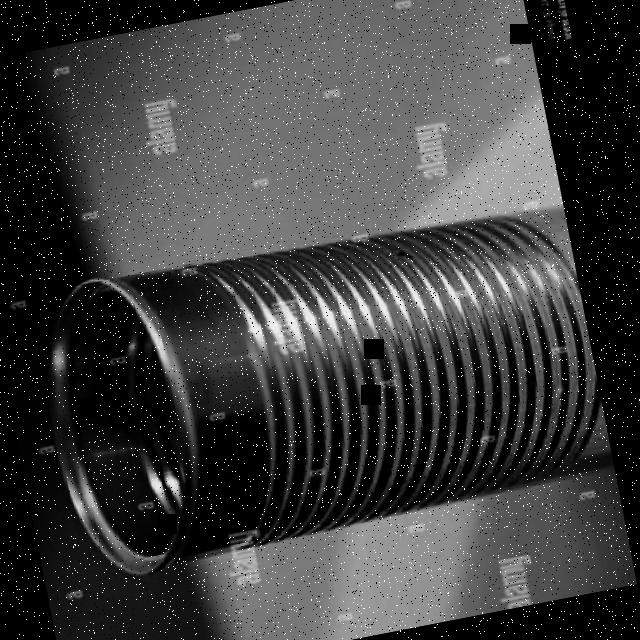can: (22, 186, 615, 584)
